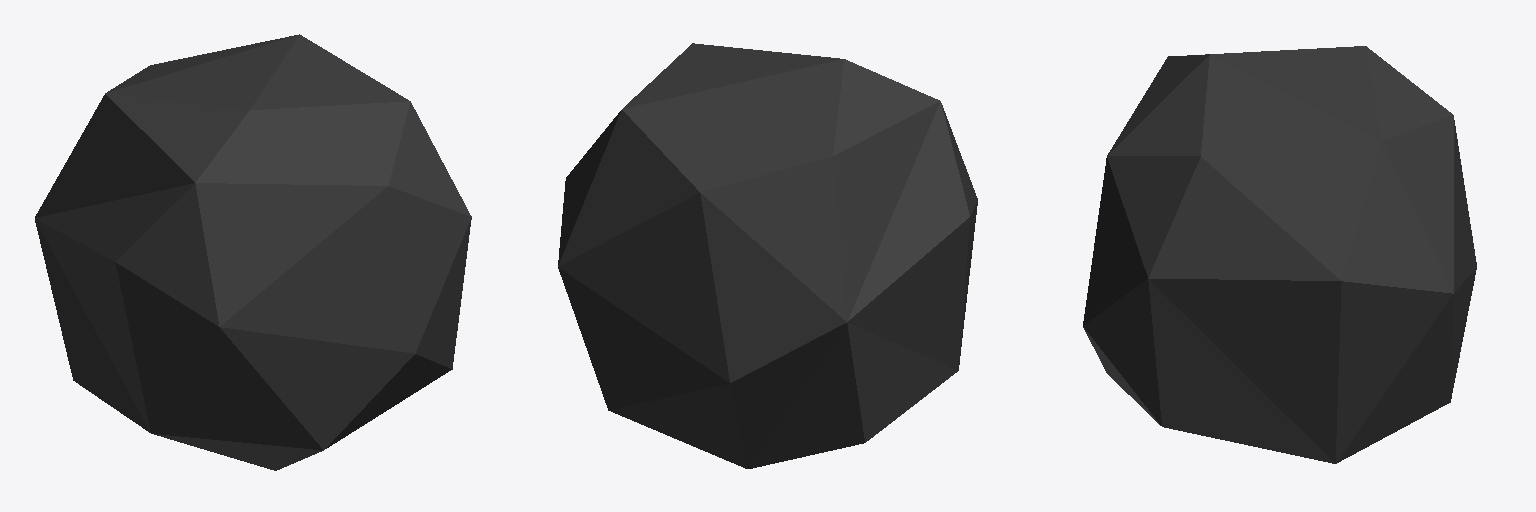
Rendered from stone_3.obj.
3 renders of one model, left to right at view 1: azimuth 30°, elevation 25°; view 2: azimuth 150°, elevation 25°; view 3: azimuth 270°, elevation 25°, orthographic.
Visible parts, largest first — view 1: Cube.001_Cube.002; view 2: Cube.001_Cube.002; view 3: Cube.001_Cube.002.
Boxes of the visible parts, x1,y1,x2,y2 form: Cube.001_Cube.002: [35, 34, 471, 470]; Cube.001_Cube.002: [558, 43, 977, 468]; Cube.001_Cube.002: [1083, 46, 1476, 463].
Bounding box in the file's own units: 3.08 × 3.11 × 3.06.